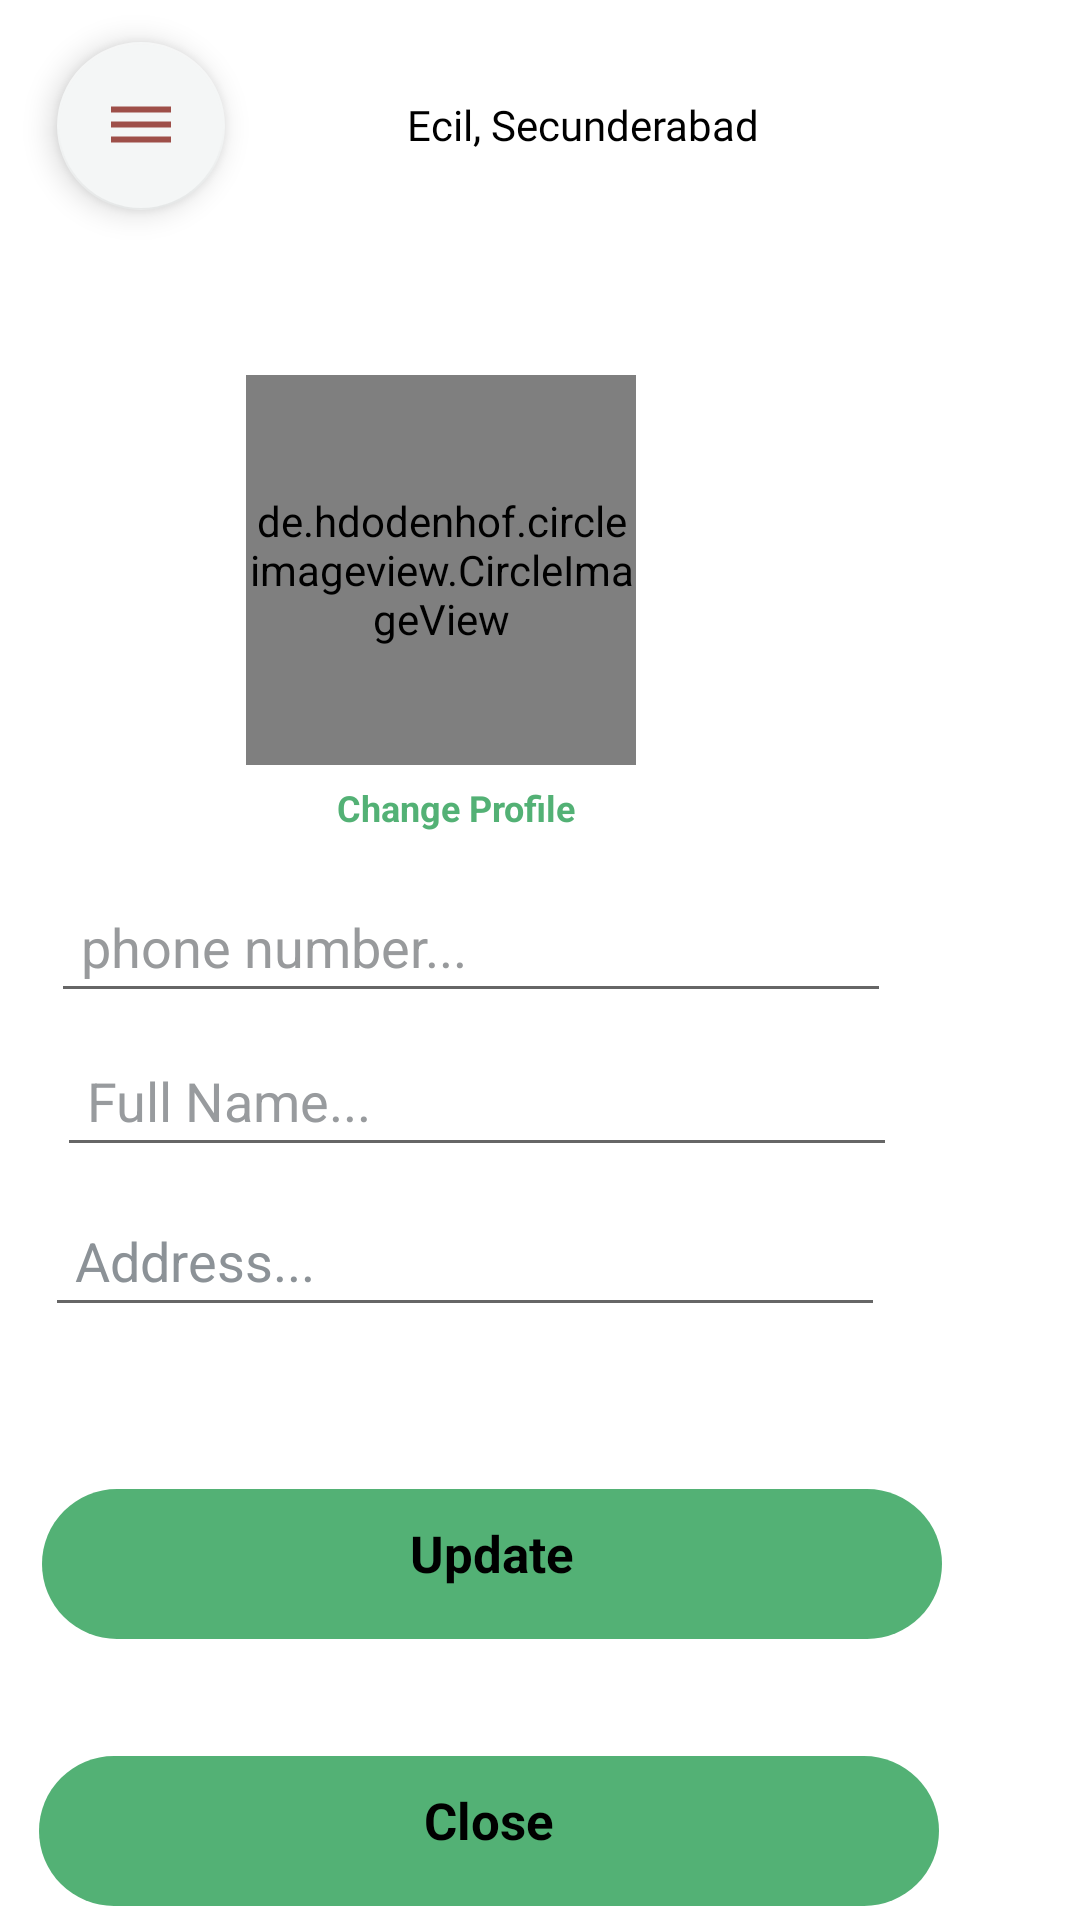

Where to tap for icons on this 1080×1920 app screen, as [x,y]:
dehaze: [141,126]
